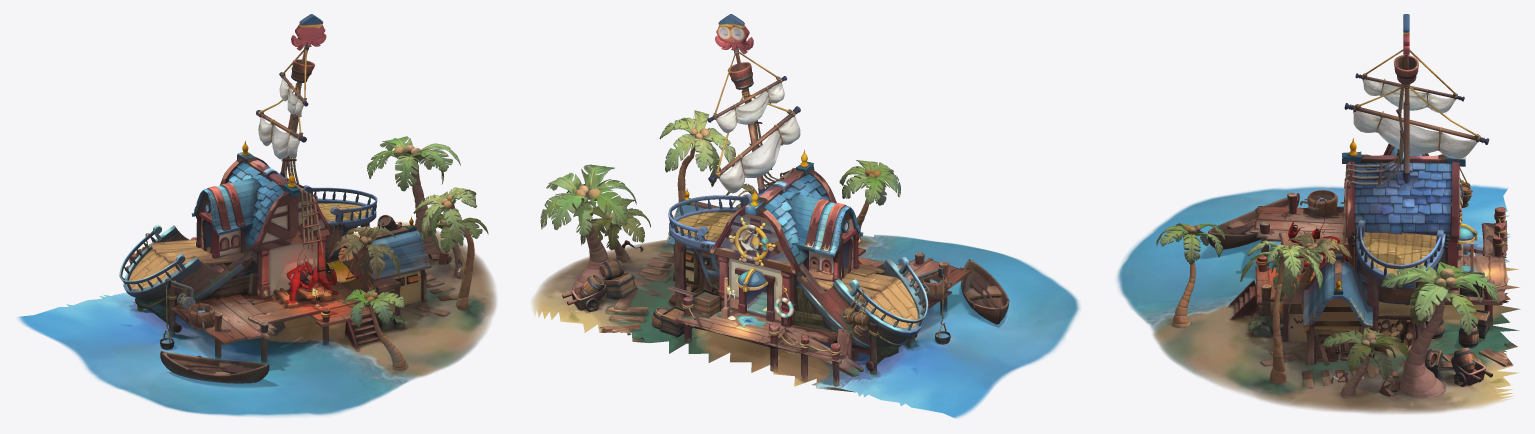
The model's file is sea-house-transformed.glb.
The picture shows the model from 3 angles, left to right: view 1: azimuth 30°, elevation 25°; view 2: azimuth 150°, elevation 25°; view 3: azimuth 270°, elevation 25°; orthographic projection. The views are drawn at different scales.
Visible parts, largest first — view 1: Object_4, Object_2; view 2: Object_2, Object_4; view 3: Object_2, Object_4.
Boxes of the visible parts, x1,y1,x2,y2 form: Object_4: (17, 44, 496, 385); Object_2: (111, 14, 488, 416); Object_2: (532, 14, 1079, 392); Object_4: (531, 47, 1059, 418); Object_2: (1117, 14, 1520, 401); Object_4: (1148, 55, 1510, 413).
Bounding box in the file's own units: 331 × 216 × 245.
2 materials, 2 textured.
